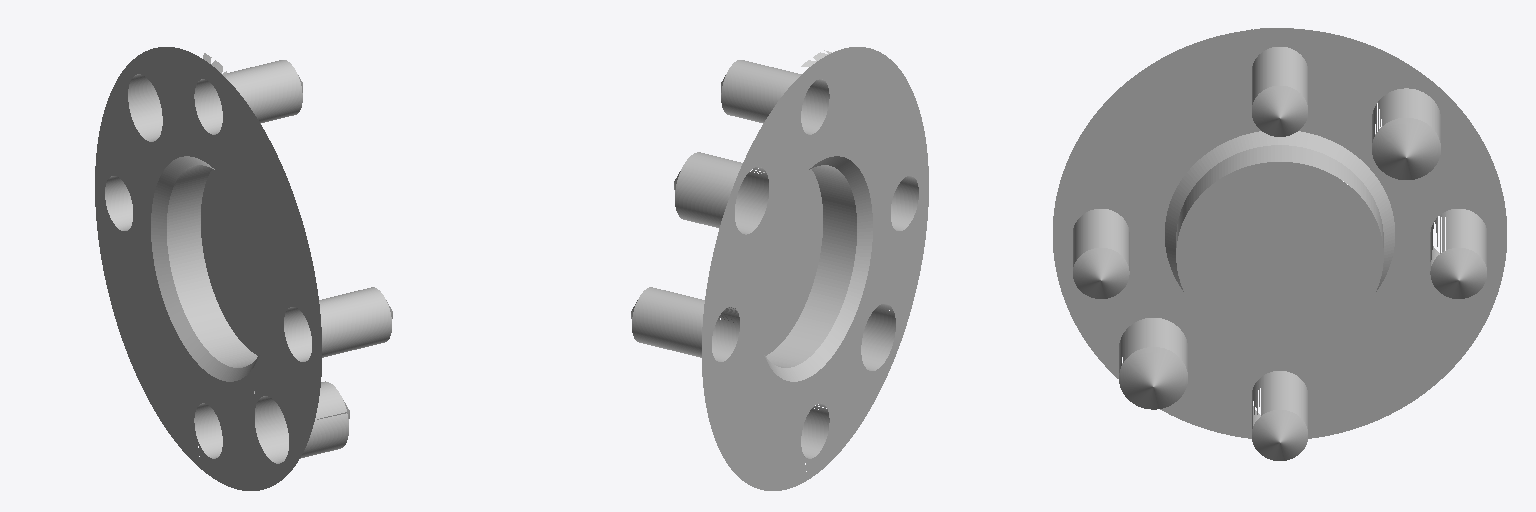
3 views of the same model, side by side, from view 1: azimuth 30°, elevation 25°; view 2: azimuth 150°, elevation 25°; view 3: azimuth 270°, elevation 25° (orthographic).
Visible parts, largest first — view 1: Axis7_Axis6.001; view 2: Axis7_Axis6.001; view 3: Axis7_Axis6.001.
Boxes of the visible parts, <box> form: Axis7_Axis6.001: <box>95,47,392,490</box>; Axis7_Axis6.001: <box>631,47,928,490</box>; Axis7_Axis6.001: <box>1053,28,1506,460</box>.
Size of the model in its own units: 0.474 by 1.99 by 1.97.